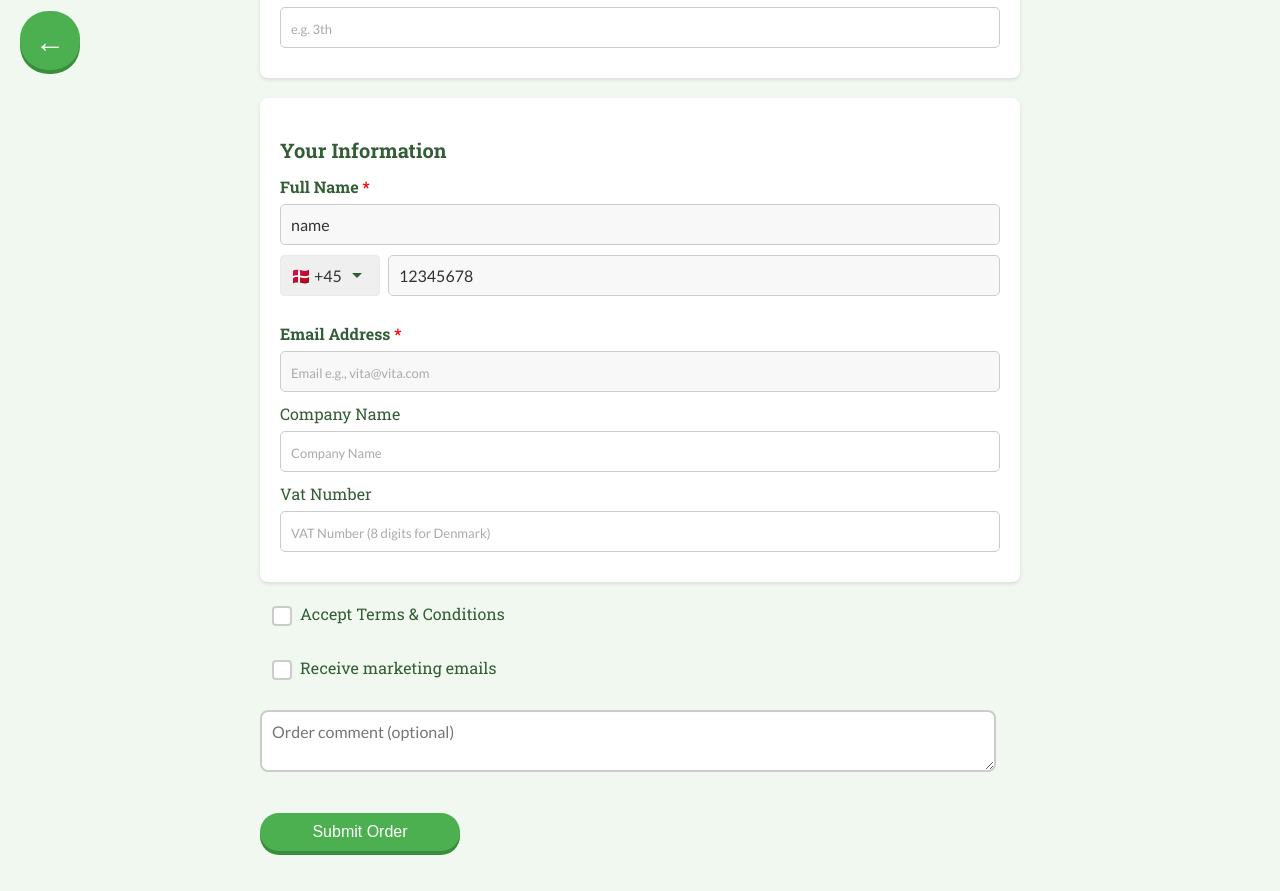
Checkout component › validates form fields correctly (E-mail)
(page scrolled)
Click the button "Submit Order" at (360, 832), box top-left (260, 813), bottom-right (460, 851)
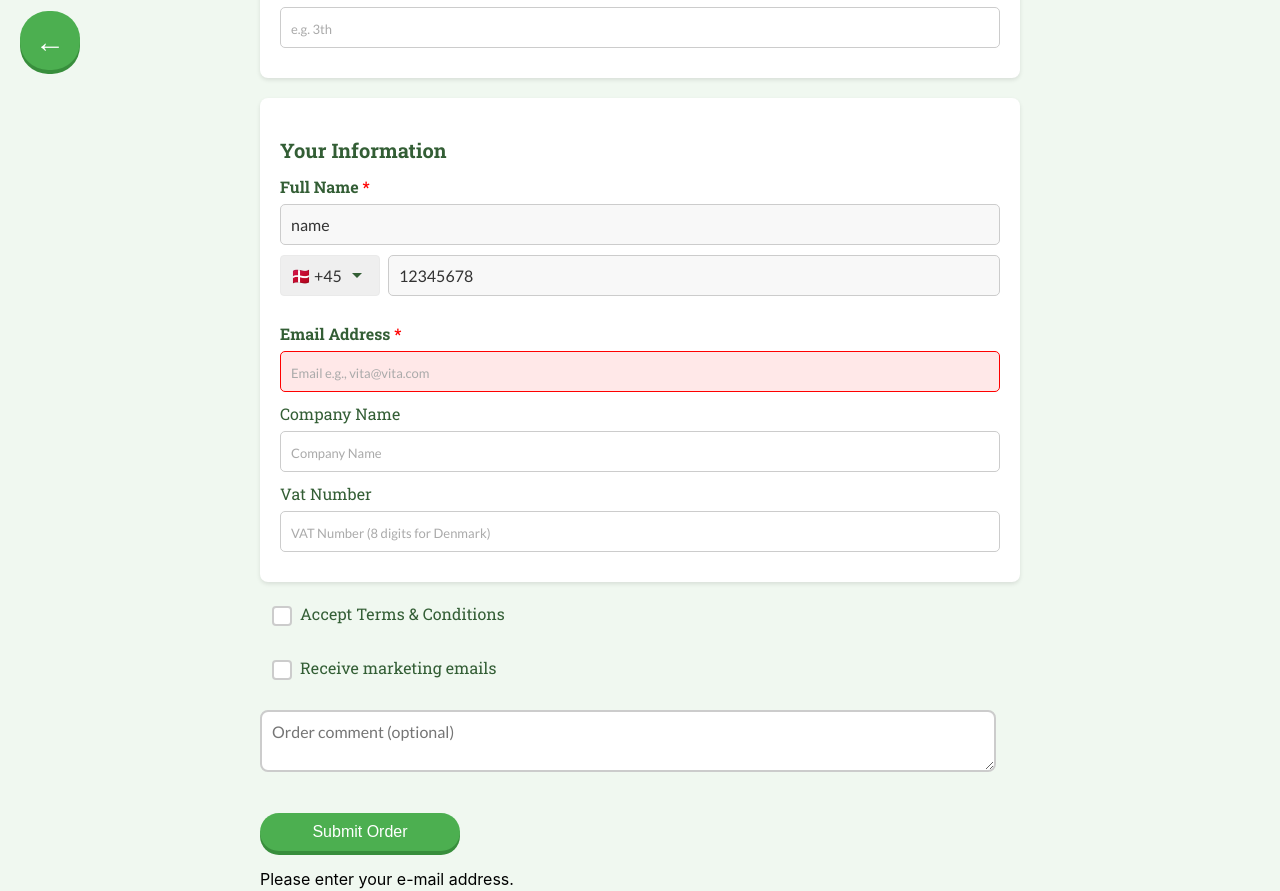
Check: the text "Please enter your e-mail address." is shown, box top-left (260, 869), bottom-right (514, 889)
